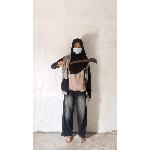Golok: (54, 54, 102, 70)
